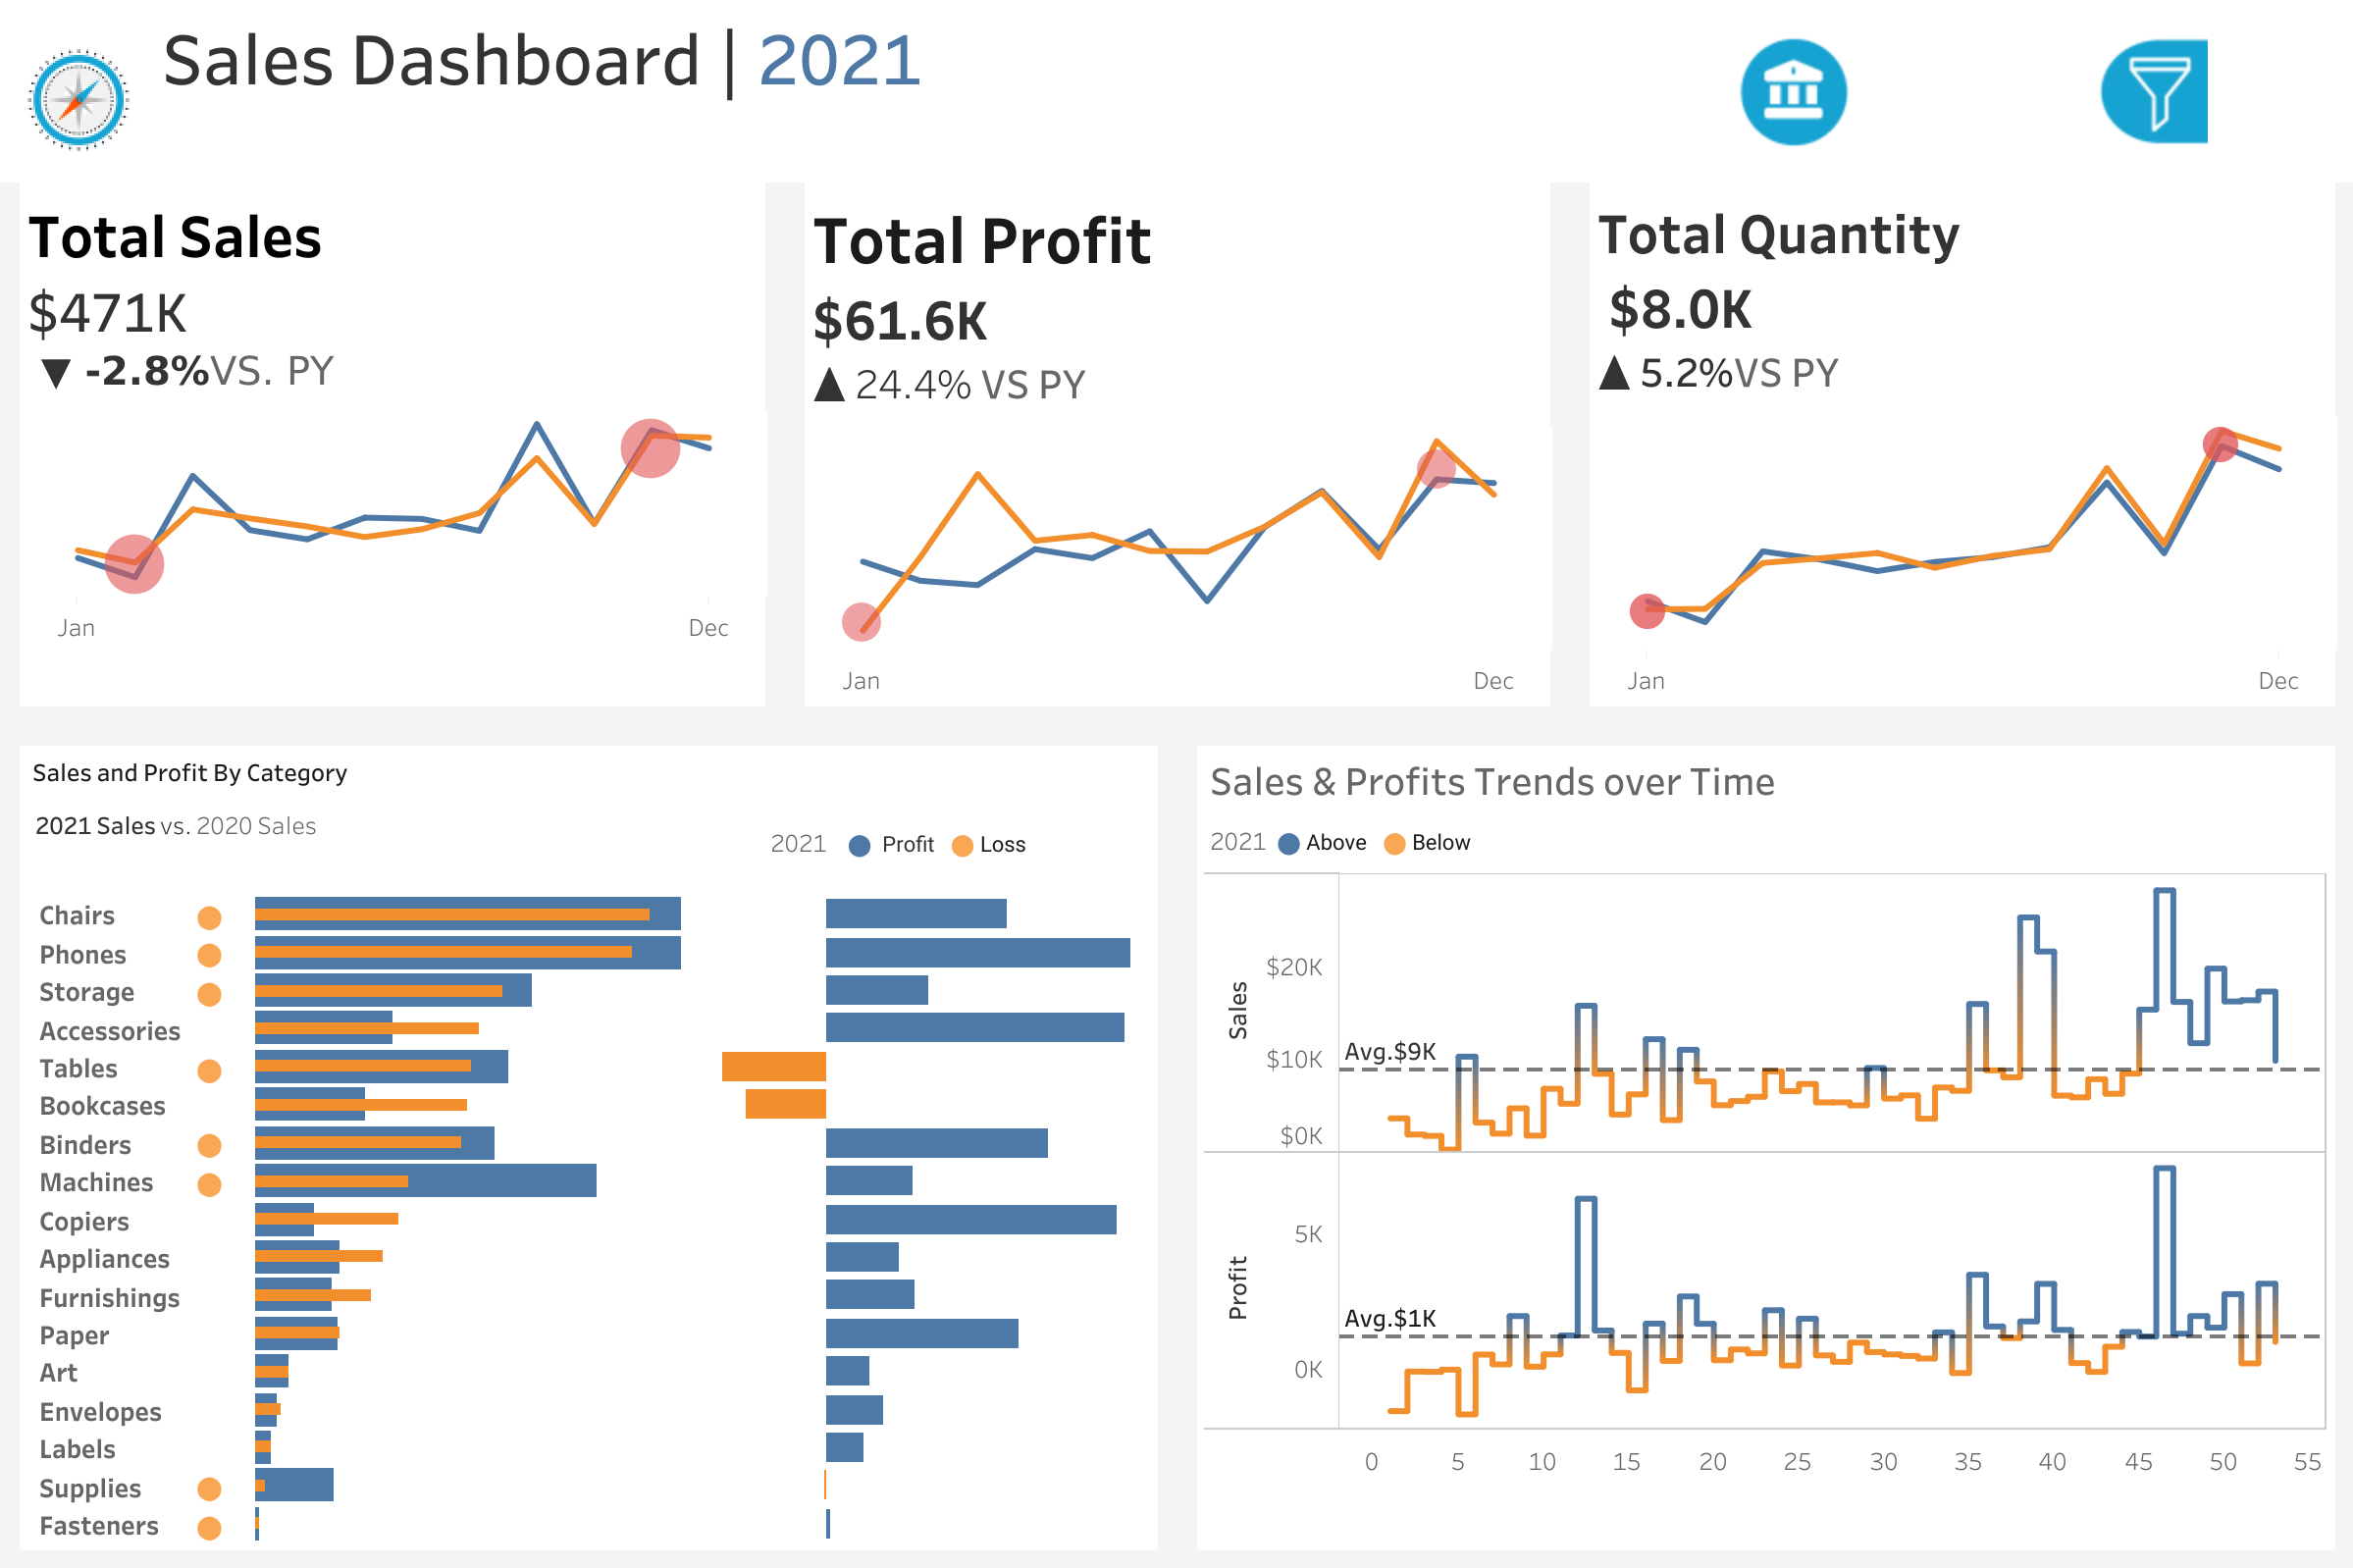

This screenshot's page, from the dashboard's own definition file:
{"tool":"tableau","page":{"name":"Sales Dashboard","canvas":[1200,800],"ordinal":0},"visuals":[{"type":"text","box":[0,0,1200,56]},{"type":"dashboard-object","box":[823,15,183,64]},{"type":"dashboard-object","box":[1006,15,182,64]},{"type":"image","param":"Image/Icon - Logo.png","box":[8,24,65,54]},{"type":"worksheet","title":"KPI Sales","mark":"Automatic","rows":["Calculation_5354410180395015"],"cols":["Order Date"],"box":[0,93,400,277]},{"type":"worksheet","title":" KPI Profit","mark":"Line","rows":["Calculation_5354410256564246"],"cols":["Order Date"],"box":[400,93,400,277]},{"type":"worksheet","title":"KPI Quantity","mark":"Automatic","rows":["Calculation_6455777626218500"],"cols":["Order Date"],"box":[800,93,400,277]},{"type":"parameter","param":"[Parameters].[Parameter 1]","box":[1006,98,192,52]},{"type":"filter","title":"KPI Sales","param":"[federated.063w3eg01ve83s18gzm3211ylwpi].[none:Category:nk]","box":[1006,150,192,52]},{"type":"filter","title":"KPI Sales","param":"[federated.063w3eg01ve83s18gzm3211ylwpi].[none:Sub-Category:nk]","box":[1006,202,192,52]},{"type":"filter","title":"KPI Sales","param":"[federated.063w3eg01ve83s18gzm3211ylwpi].[none:Region:nk]","box":[1006,254,192,52]},{"type":"filter","title":"KPI Sales","param":"[federated.063w3eg01ve83s18gzm3211ylwpi].[none:State:nk]","box":[1006,306,192,52]},{"type":"filter","title":"KPI Sales","param":"[federated.063w3eg01ve83s18gzm3211ylwpi].[none:City:nk]","box":[1006,358,192,52]},{"type":"text","box":[10,380,580,25]},{"type":"text","box":[610,380,580,34]},{"type":"worksheet","title":"Legend Subcategory","mark":"Automatic","box":[10,405,376,46]},{"type":"text","box":[386,405,204,46]},{"type":"text","box":[610,414,580,25]},{"type":"worksheet","title":"Weekly Trends","mark":"Automatic","rows":["Calculation_5354410173616128","Calculation_5354410237878289"],"cols":["Order Date"],"box":[610,439,580,351]},{"type":"worksheet","title":"Sub. Comparison","mark":"Bar","rows":["Sub-Category","Calculation_6455777646493703"],"cols":["Calculation_5354410174529538","Calculation_5354410173616128","Calculation_5354410237878289"],"box":[10,451,580,338.9]}]}

Visuals, with their boxes in screenshot pixels (x1, y1, x2, y2), scaled from the page's 1200x800 canvas onto the 2353x1568 screenshot:
text: (0,0,2352,110)
dashboard-object: (1614,29,1972,155)
dashboard-object: (1972,29,2329,155)
image: (16,47,143,153)
"KPI Sales" worksheet: (0,183,784,725)
" KPI Profit" worksheet (Line marks): (784,183,1569,725)
"KPI Quantity" worksheet: (1569,183,2352,725)
parameter: (1972,192,2349,294)
"KPI Sales" filter: (1972,294,2349,395)
"KPI Sales" filter: (1972,395,2349,497)
"KPI Sales" filter: (1972,497,2349,600)
"KPI Sales" filter: (1972,600,2349,702)
"KPI Sales" filter: (1972,702,2349,804)
text: (20,745,1157,794)
text: (1196,745,2333,811)
"Legend Subcategory" worksheet: (20,794,757,884)
text: (757,794,1157,884)
text: (1196,811,2333,861)
"Weekly Trends" worksheet: (1196,861,2333,1548)
"Sub. Comparison" worksheet (Bar marks): (20,884,1157,1548)
